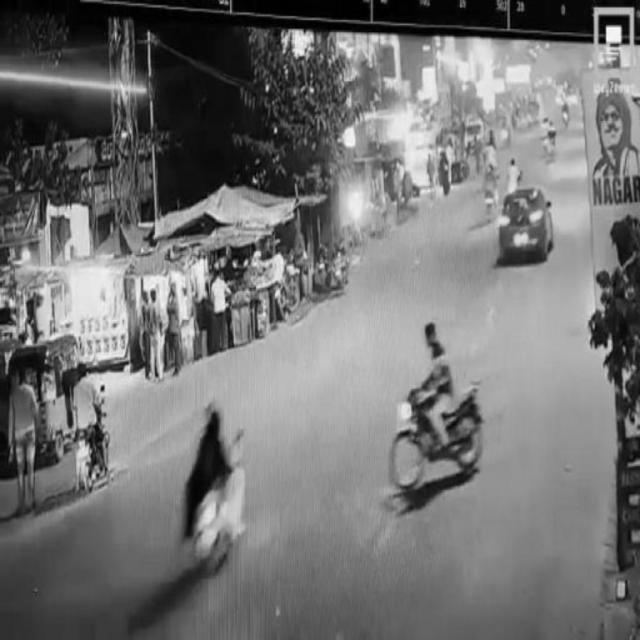person: (6, 364, 40, 516), (145, 289, 165, 382)
vehicle: (384, 326, 488, 504), (192, 385, 256, 555), (9, 332, 87, 456), (71, 354, 113, 494), (498, 182, 553, 266)
